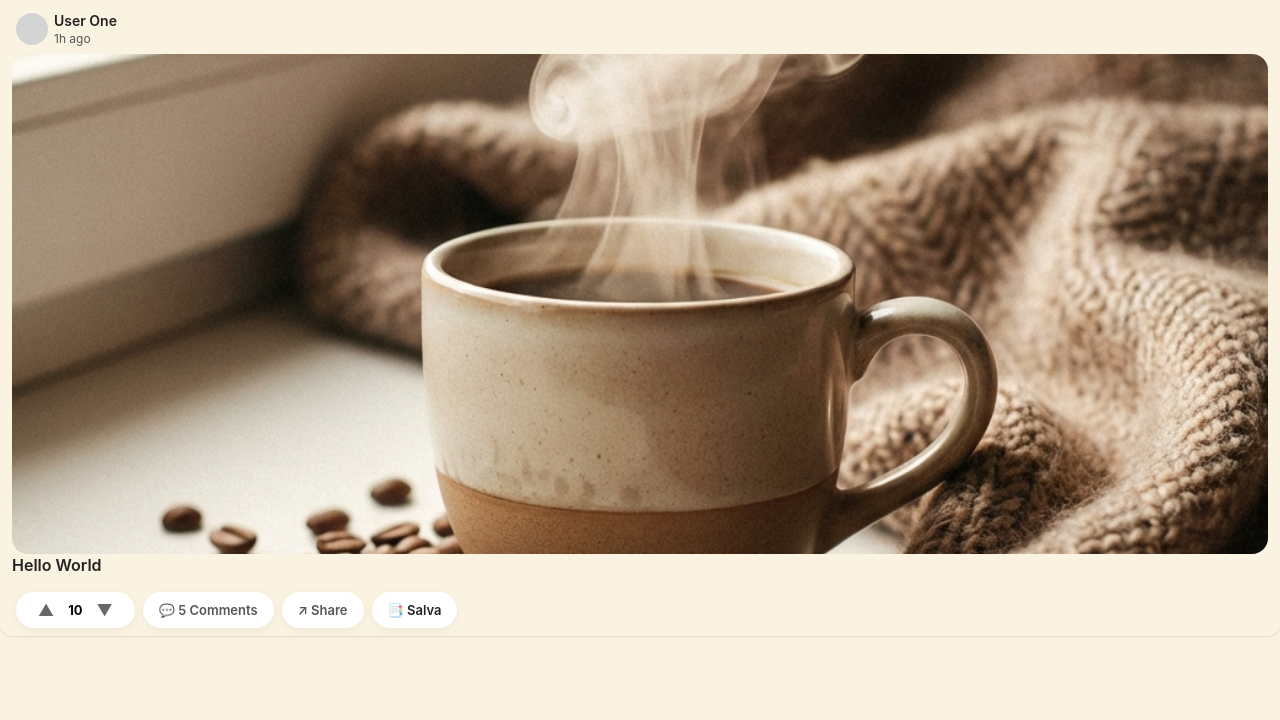
Test: PostCard Component › increments vote count when clicking upvote
This screenshot has width=1280, height=720.
Click the button with test id "upvote-btn". click: (46,610)
box: x1=28 y1=596 x2=64 y2=624
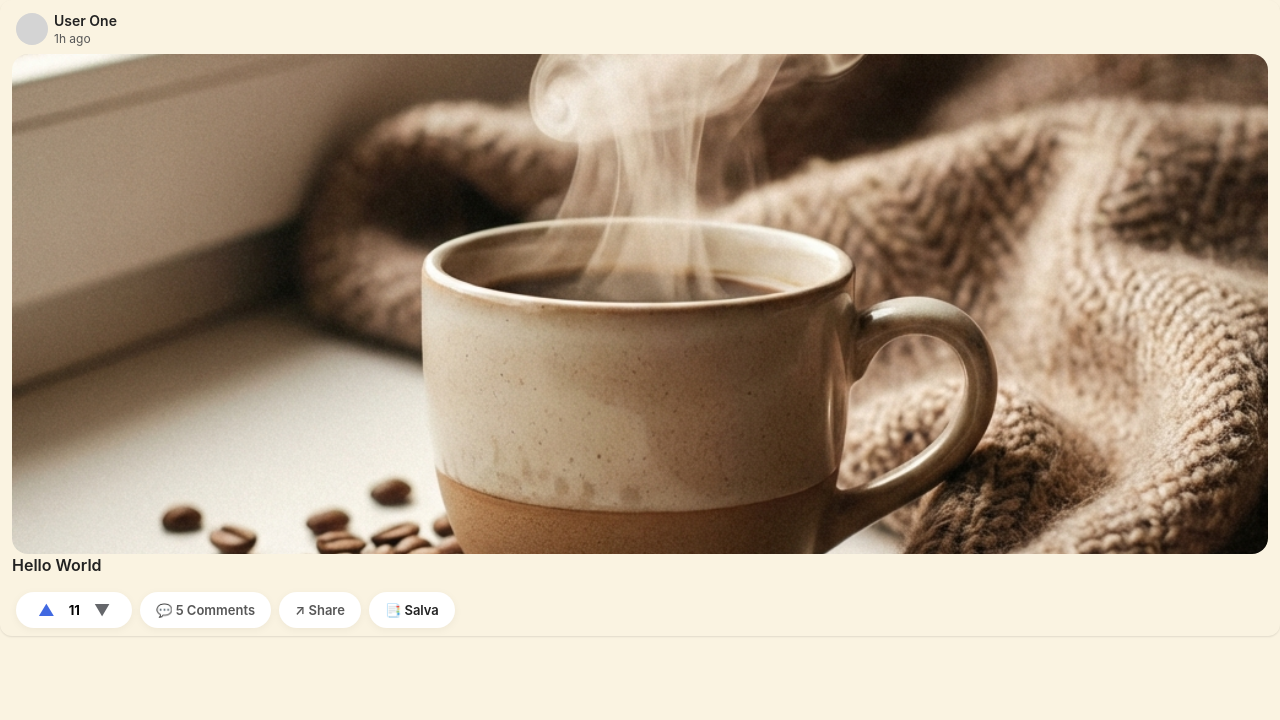
Result: the text with test id "vote-count" reads "11" at x1=69 y1=602 x2=80 y2=618
